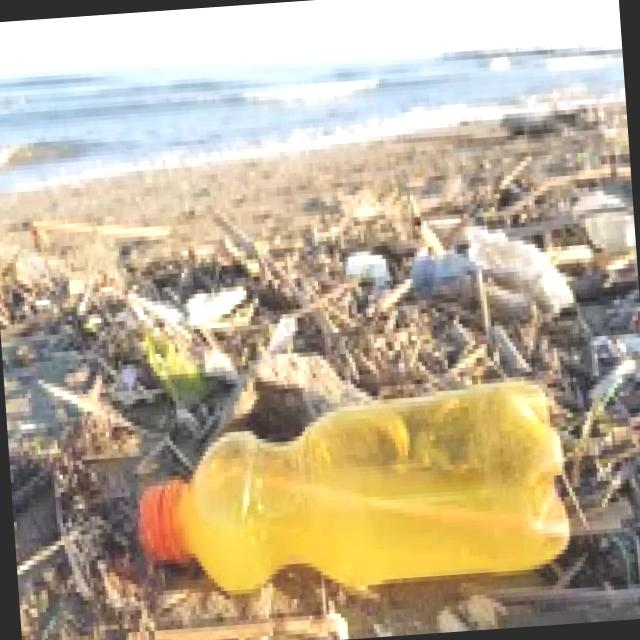Recycle: (132, 382, 574, 598)
